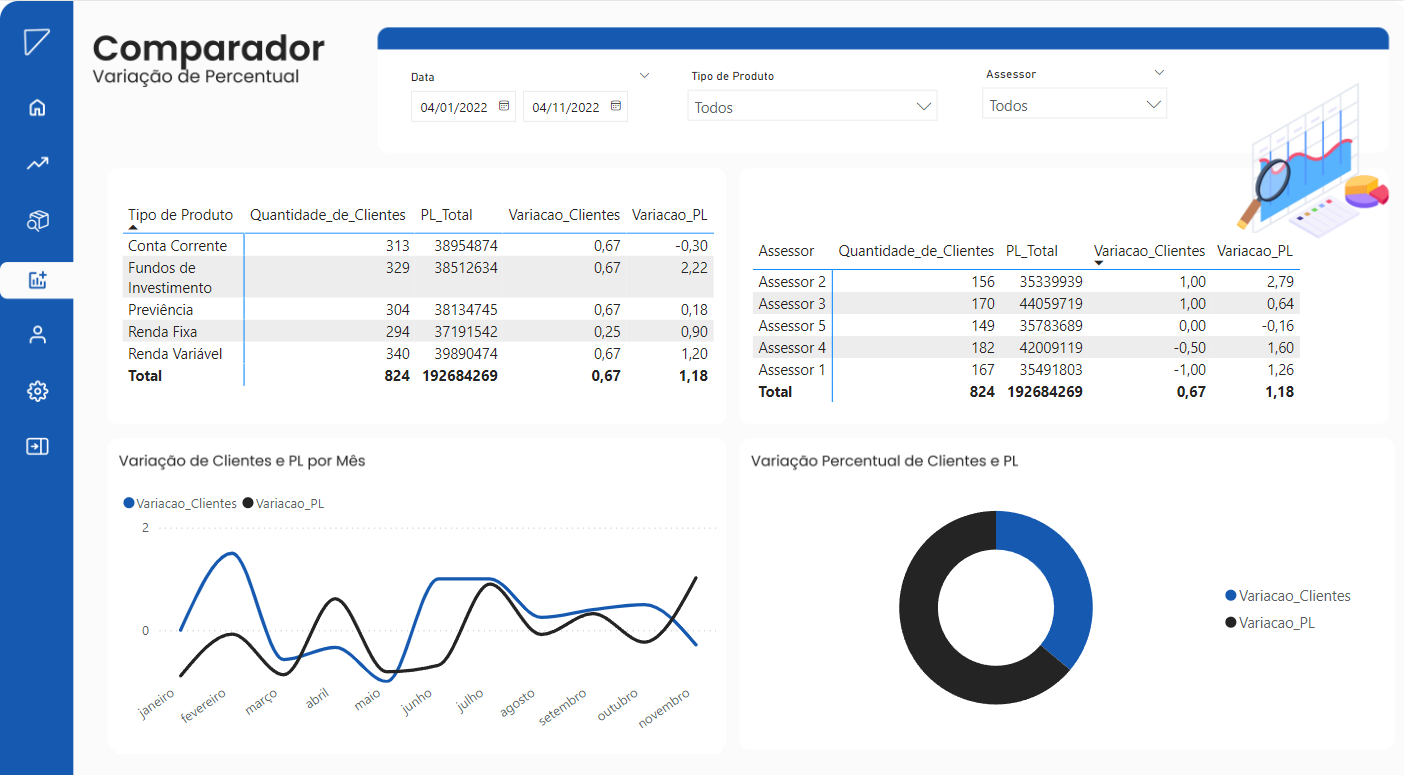

Layout of this report page (visuals, bound fields, positions):
{"tool":"powerbi","page":{"name":"Comparador","canvas":[1280,720],"ordinal":2},"visuals":[{"type":"slicer","fields":{"Values":["PL_Combinado.Data"]},"box":[360,58,219,74],"z":0},{"type":"pivotTable","fields":{"Values":["Clientes.Quantidade de Clientes","PL_Combinado.PL Total","PL_Combinado.Variacao_Clientes","PL_Combinado.Variacao_PL"],"Rows":["PL_Combinado.Tipo de Produto"]},"box":[106,178,550,198],"z":1000},{"type":"pythonVisual","fields":{"Values":["Clientes.Quantidade de Clientes","PL_Combinado.PL Total","PL_Combinado.Data.Variation.Hierarquia de datas.Ano","PL_Combinado.Data.Variation.Hierarquia de datas.Trimestre","PL_Combinado.Data.Variation.Hierarquia de datas.Mês","PL_Combinado.Data.Variation.Hierarquia de datas.Dia"]},"box":[1488.3,0,446.1,302.2],"z":2000},{"type":"pivotTable","fields":{"Values":["Clientes.Quantidade de Clientes","PL_Combinado.PL Total","PL_Combinado.Variacao_Clientes","PL_Combinado.Variacao_PL"],"Rows":["Clientes.Assessor"]},"box":[679,211,509,165],"z":3000},{"type":"slicer","fields":{"Values":["Clientes.Assessor"]},"box":[883,55,188,65],"z":4000},{"type":"slicer","fields":{"Values":["PL_Combinado.Tipo de Produto"]},"box":[615,57,247,62],"z":5000},{"type":"donutChart","fields":{"Y":["PL_Combinado.Variacao_Clientes","PL_Combinado.Variacao_PL"]},"box":[692,437,550,230],"z":6000},{"type":"lineChart","fields":{"Category":["PL_Combinado.Data.Variation.Hierarquia de datas.Ano","PL_Combinado.Data.Variation.Hierarquia de datas.Trimestre","PL_Combinado.Data.Variation.Hierarquia de datas.Mês","PL_Combinado.Data.Variation.Hierarquia de datas.Dia"],"Y":["PL_Combinado.Variacao_Clientes","PL_Combinado.Variacao_PL"]},"box":[106,437,550,247],"z":7000}]}

Visuals, with their boxes on the page's 1280x720 design canvas (x1, y1, x2, y2). These are canvas units, not pixel positions in the 1404x775 screenshot, which may show the page scaled, cropped or inside an application window:
slicer - PL_Combinado.Data: (x1=360, y1=58, x2=579, y2=132)
pivotTable - Clientes.Quantidade de Clientes x PL_Combinado.PL Total: (x1=106, y1=178, x2=656, y2=376)
pythonVisual - Clientes.Quantidade de Clientes x PL_Combinado.PL Total: (x1=1488, y1=0, x2=1934, y2=302)
pivotTable - Clientes.Quantidade de Clientes x PL_Combinado.PL Total: (x1=679, y1=211, x2=1188, y2=376)
slicer - Clientes.Assessor: (x1=883, y1=55, x2=1071, y2=120)
slicer - PL_Combinado.Tipo de Produto: (x1=615, y1=57, x2=862, y2=119)
donutChart - PL_Combinado.Variacao_Clientes x PL_Combinado.Variacao_PL: (x1=692, y1=437, x2=1242, y2=667)
lineChart - PL_Combinado.Data.Variation.Hierarquia de datas.Ano x PL_Combinado.Data.Variation.Hierarquia de datas.Trimestre: (x1=106, y1=437, x2=656, y2=684)
